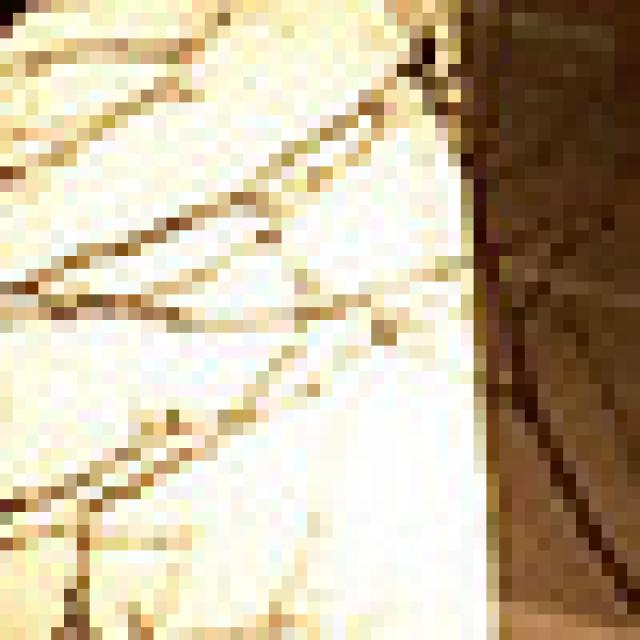no_fire: (0, 1, 549, 634)
